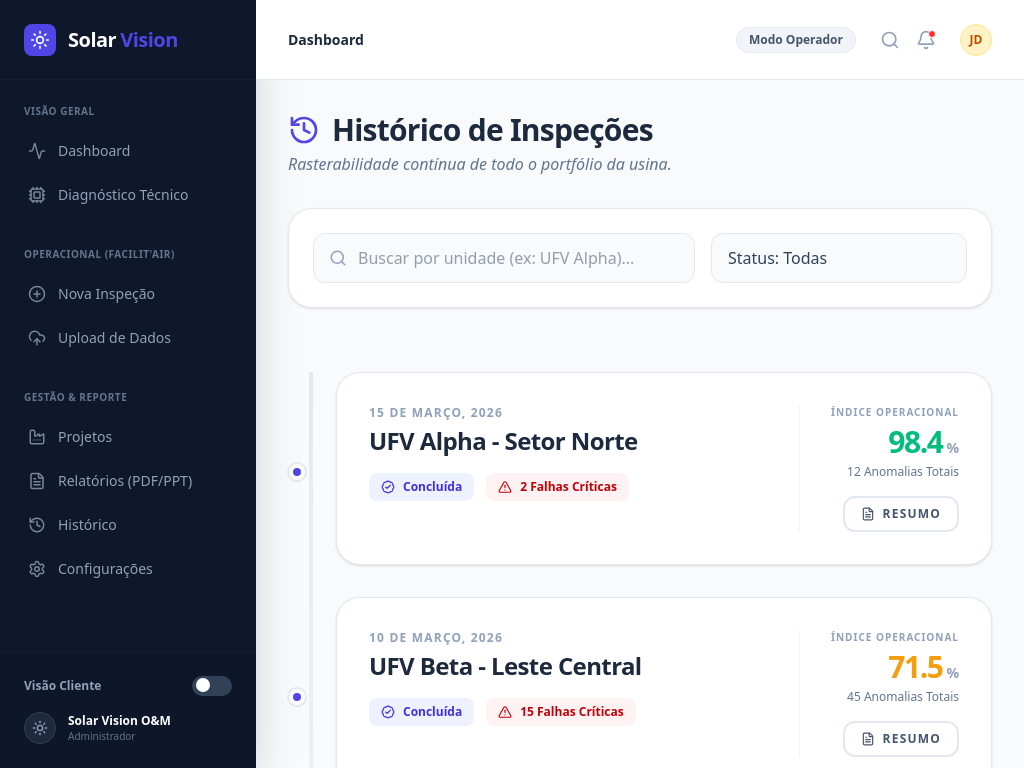
Página de Histórico da Timeline (Ciclo 13) › deve filtrar unidades usando o campo de busca textual
// Simula digitando o alvo 'Beta' no input
Type "Beta" into the field with placeholder "Buscar por unidade (ex: UFV Alpha)..." at coordinates (504, 258), box [313,233,695,283]
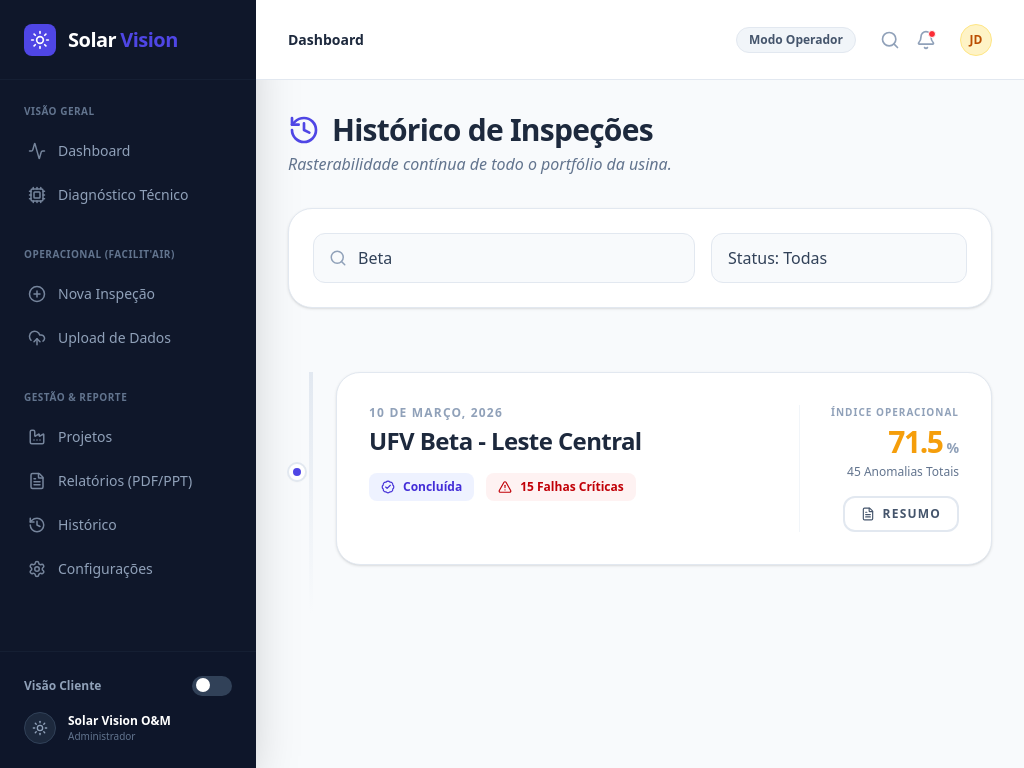
Expected: the heading "UFV Beta - Leste Central" is shown, [369,424,642,457]
Expected: the heading "UFV Alpha" is gone
